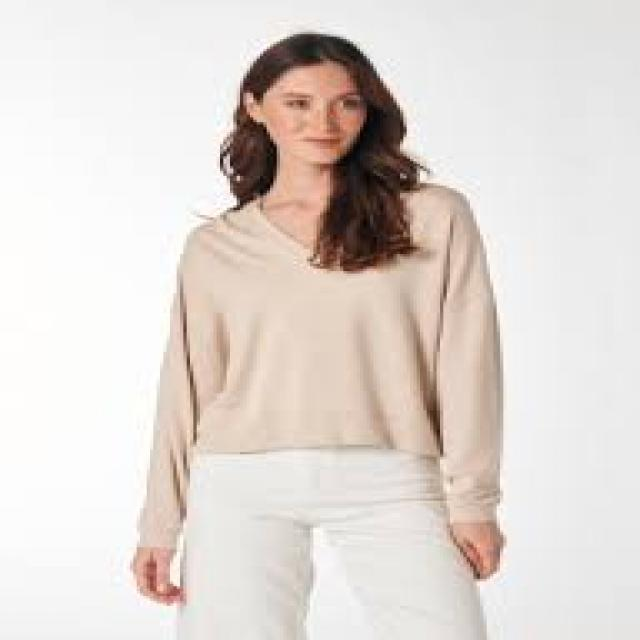plain: (139, 177, 504, 457)
